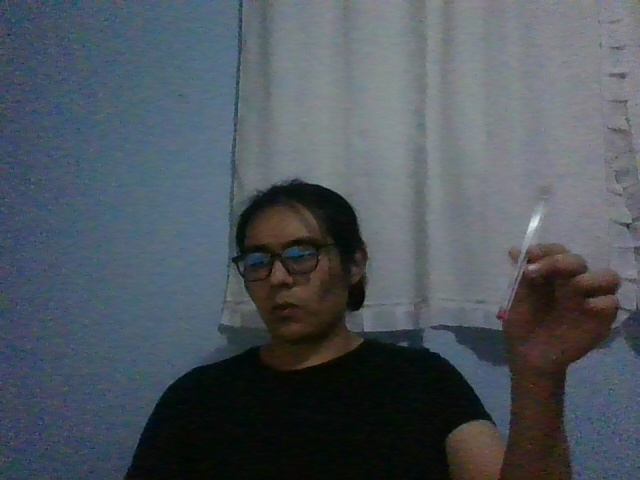pluma: (495, 177, 551, 321)
